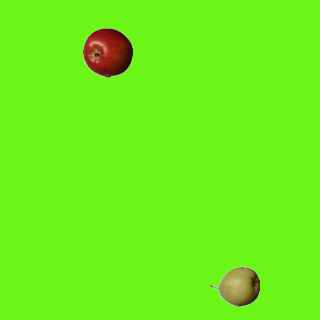Apple Braeburn: (82, 27, 132, 77)
Pear: (209, 261, 259, 311)
